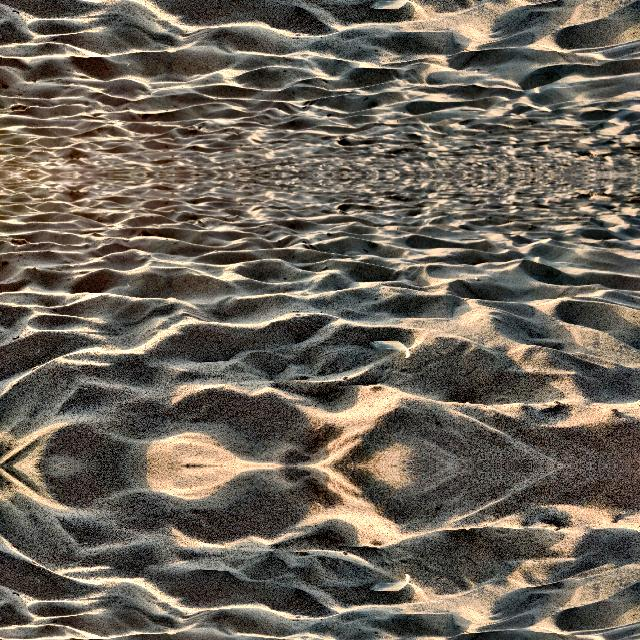Paper: (368, 572, 412, 594), (368, 338, 412, 358), (368, 0, 412, 10)
